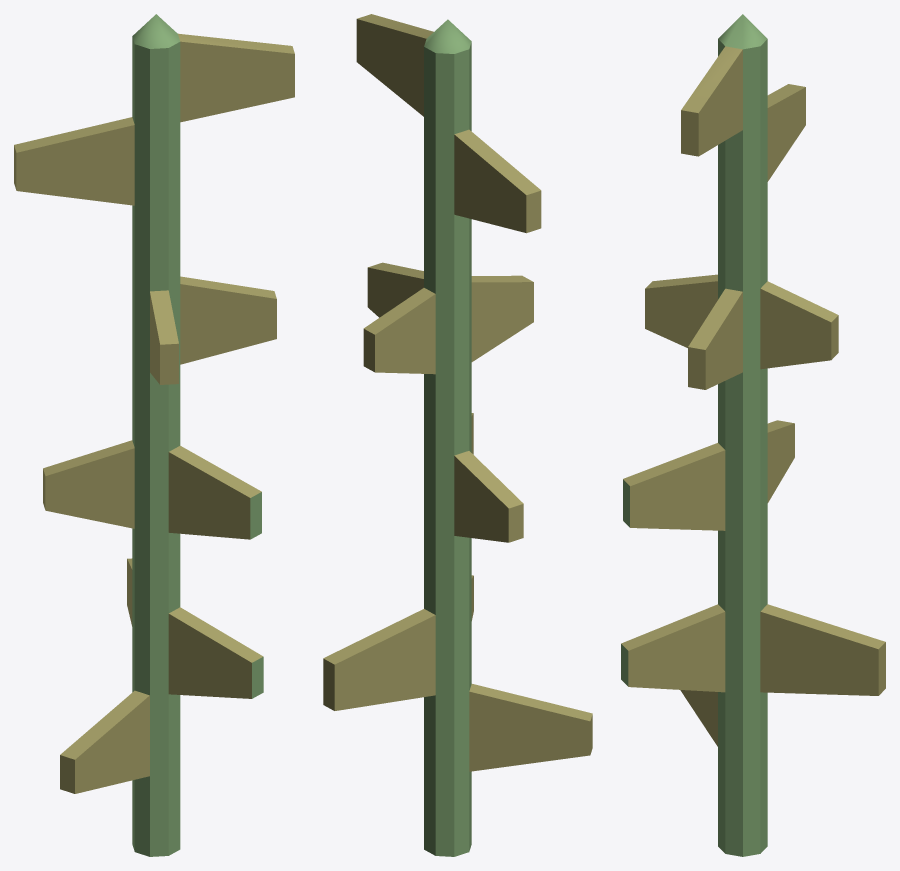
File: Plant.fbx
3 renders of one model, left to right at view 1: azimuth 30°, elevation 25°; view 2: azimuth 150°, elevation 25°; view 3: azimuth 270°, elevation 25°, orthographic.
Visible parts, largest first — view 1: pCylinder1; view 2: pCylinder1; view 3: pCylinder1.
Boxes of the visible parts, x1,y1,x2,y2 form: pCylinder1: (14, 14, 294, 856); pCylinder1: (323, 14, 592, 856); pCylinder1: (621, 14, 885, 856).
Size of the model in its own units: 5.66 by 19.27 by 5.55.
